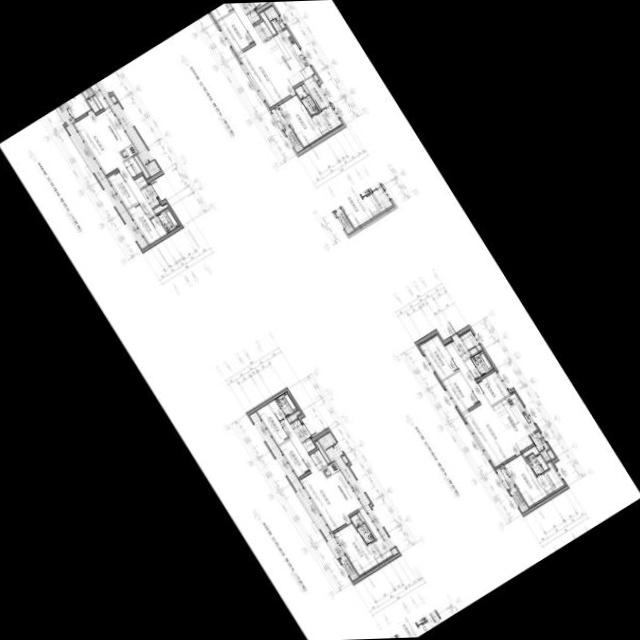background: (0, 0, 640, 640)
space_balconi: (249, 412, 344, 558), (56, 104, 147, 249), (318, 432, 398, 554), (96, 80, 160, 176), (530, 431, 550, 461), (263, 6, 285, 32), (270, 106, 289, 129), (496, 466, 514, 489)
space_bedroom: (278, 94, 329, 147), (333, 522, 377, 575), (503, 454, 547, 506), (419, 335, 458, 380), (216, 11, 253, 53), (442, 371, 478, 413), (127, 203, 160, 244), (256, 404, 289, 445), (278, 439, 309, 477), (107, 170, 137, 208), (64, 92, 91, 119), (210, 3, 233, 20)
space_dressroom: (359, 508, 392, 563), (544, 461, 564, 490), (318, 106, 341, 131), (90, 84, 108, 108)
space_front: (290, 419, 315, 452), (451, 337, 471, 360), (140, 184, 159, 208), (238, 2, 254, 14)
space_kitchen: (264, 28, 314, 86), (492, 393, 537, 451), (319, 461, 362, 515), (95, 107, 137, 161)
space_living_room: (445, 342, 520, 467), (73, 111, 155, 218), (280, 418, 350, 531), (230, 3, 294, 107)
space_other: (477, 371, 509, 405), (303, 76, 330, 110), (301, 83, 320, 110), (357, 512, 375, 539), (460, 330, 481, 351), (149, 215, 167, 237), (259, 11, 276, 34), (254, 20, 272, 41), (537, 473, 554, 495), (133, 155, 149, 178), (123, 157, 141, 177), (268, 399, 285, 420), (310, 449, 327, 469), (464, 358, 480, 379), (315, 441, 330, 463), (522, 446, 539, 457), (134, 175, 147, 188), (247, 10, 260, 23), (287, 410, 300, 422), (92, 95, 102, 109), (153, 204, 167, 213), (469, 347, 478, 355), (547, 449, 554, 459), (341, 455, 348, 463), (110, 95, 116, 102), (313, 74, 318, 80)
space_outdoor_room: (284, 127, 303, 152), (509, 487, 528, 512), (339, 556, 358, 580)
space_toilet: (294, 85, 318, 115), (350, 514, 374, 543), (156, 208, 178, 232), (275, 392, 297, 416), (525, 453, 548, 475), (471, 351, 492, 375), (82, 87, 99, 112)
